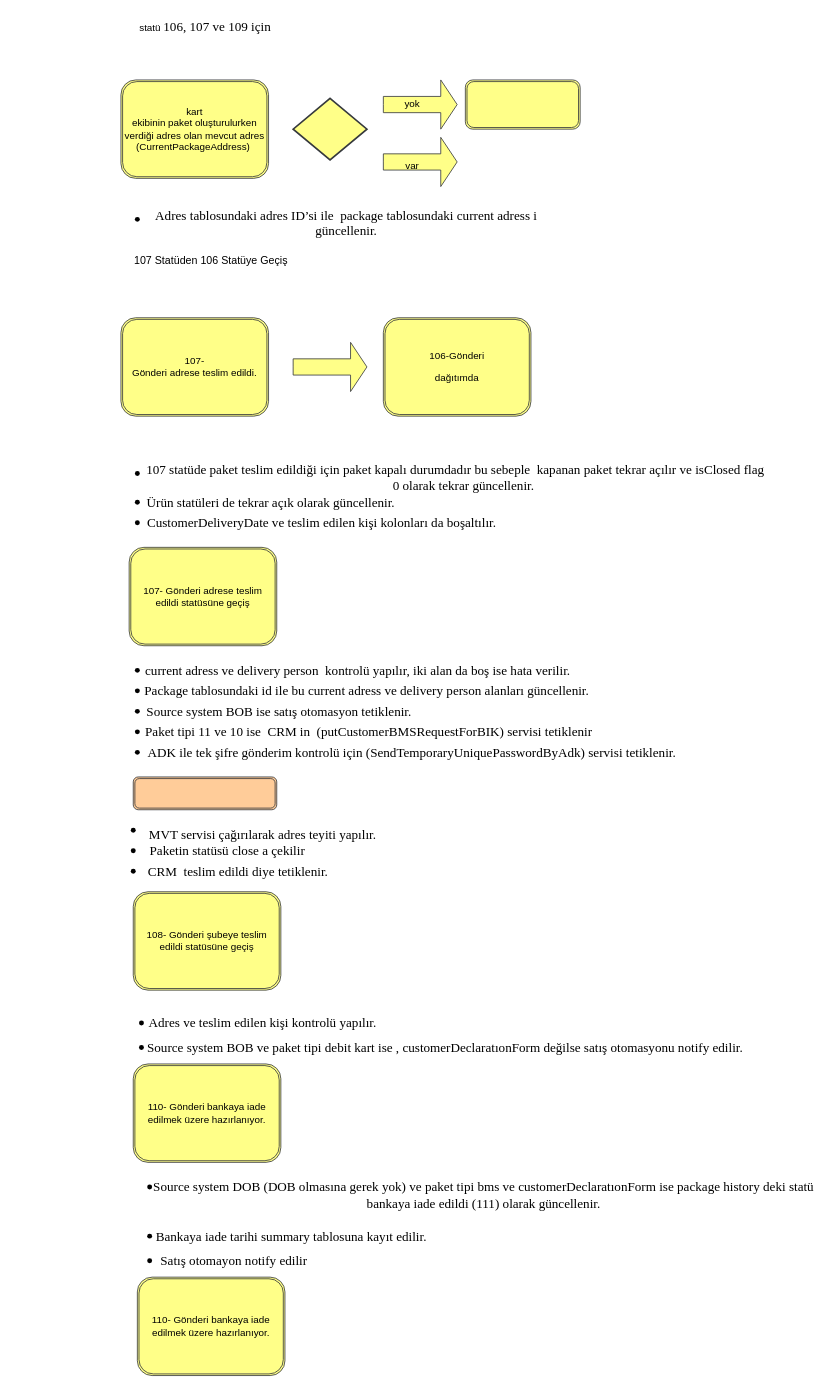
Image size: 840x1390. Some labels were removed from this diagram. The shapes that lost their labels are listed below. From the top down, each one's centre as x and y in pixels, then its label:
At [522,104]: "Adres bilgisi girilmelidir şeklinde hata dönülür".
At [329,128]: "Adres tablosunda var mı ?".
At [204,793]: "Substatus 10701 ise".
